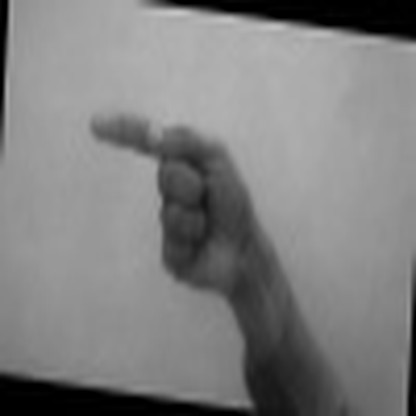g: (86, 100, 257, 294)
